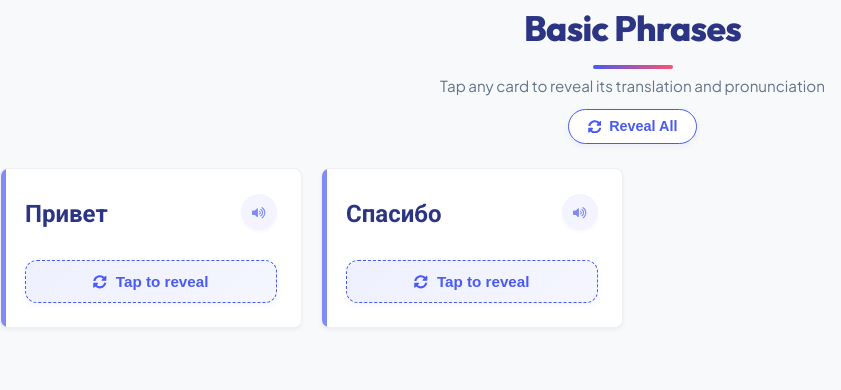
Phrases Component - Intuitive Reveal & Study Mode › reveals translation and pronunciation when tapping "Tap to reveal", and allows hiding it again
The image size is (841, 390).
Click the button with aria-label "reveal translation for" at (151, 282), box [25, 260, 277, 303]
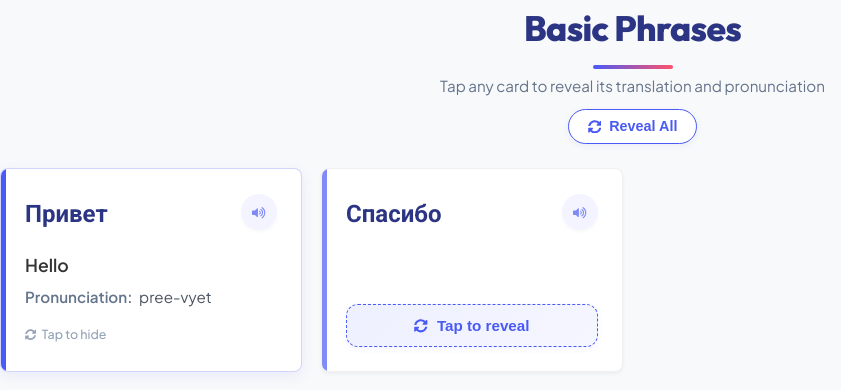
Check: the text "Hello" is shown, box [25, 254, 69, 276]
Check: the text "Pronunciation:" is shown, box [25, 286, 132, 305]
Check: the text "Tap to hide" is shown, box [42, 324, 106, 344]
Tap to hide
Click the button with aria-label "hide translation for Привет" at (118, 298), box [25, 254, 212, 341]
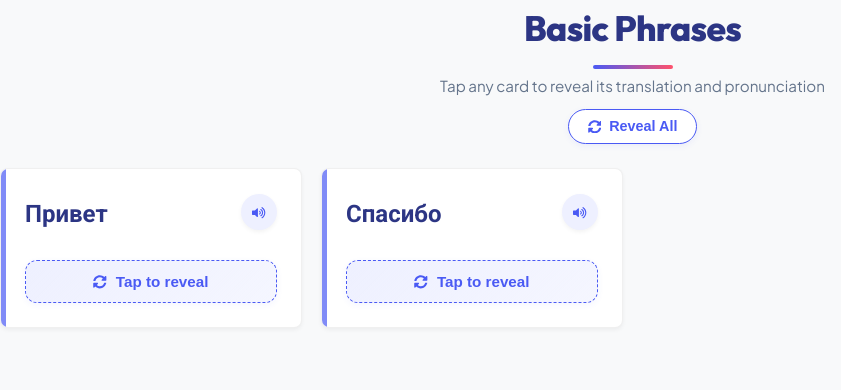
Check: the button "Hello" is gone
Check: the button with aria-label "reveal translation for" is shown, box [25, 260, 277, 303]
